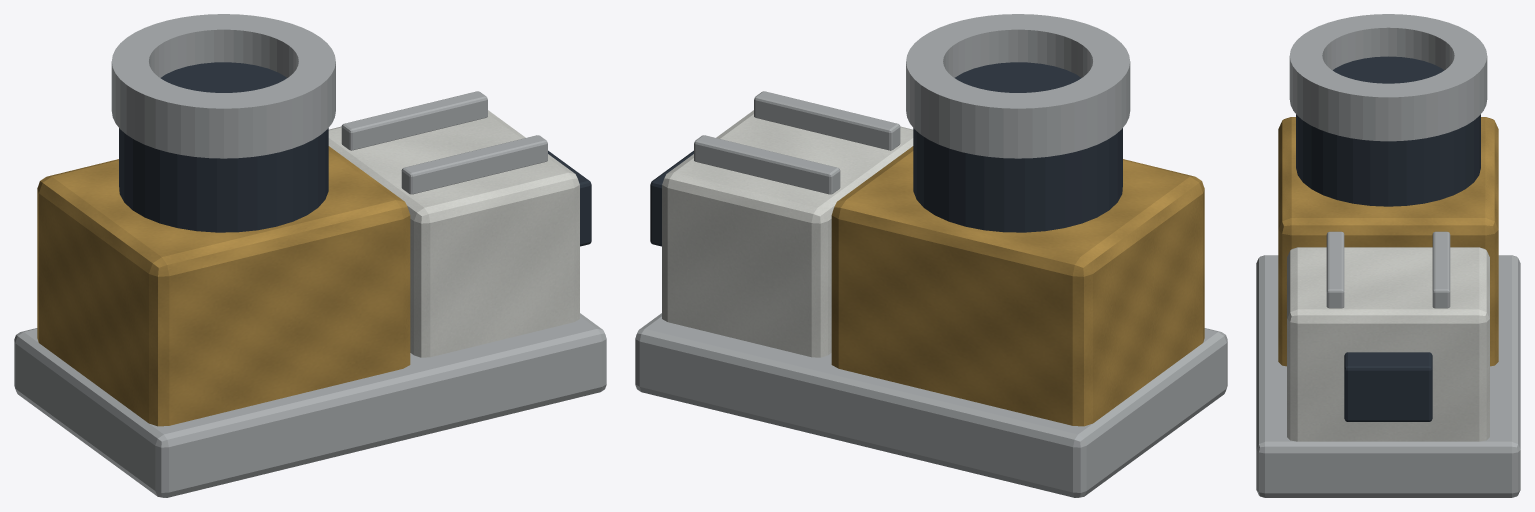
The model's file is probe_spectrometer.glb.
The picture shows the model from 3 angles, left to right: view 1: azimuth 30°, elevation 25°; view 2: azimuth 150°, elevation 25°; view 3: azimuth 270°, elevation 25°; orthographic projection. The views are drawn at different scales.
Visible parts, largest first — view 1: Spectrometer_OpticsCase, Spectrometer_Mount, Spectrometer_Electronics, Optical_FrontRim, Optical_Barrel, Electronics_Radiator, Electronics_Radiator.001, Optical_Window, Cable_Connector; view 2: Spectrometer_OpticsCase, Spectrometer_Mount, Spectrometer_Electronics, Optical_FrontRim, Optical_Barrel, Electronics_Radiator.001, Electronics_Radiator, Optical_Window, Cable_Connector; view 3: Spectrometer_Electronics, Spectrometer_Mount, Optical_FrontRim, Spectrometer_OpticsCase, Optical_Barrel, Cable_Connector, Optical_Window, Electronics_Radiator, Electronics_Radiator.001.
Boxes of the visible parts, left/top/right/bottom form: Spectrometer_OpticsCase: left=37, top=146, right=410, bottom=426; Spectrometer_Mount: left=14, top=313, right=606, bottom=497; Spectrometer_Electronics: left=328, top=110, right=579, bottom=357; Optical_FrontRim: left=111, top=14, right=335, bottom=158; Optical_Barrel: left=119, top=128, right=328, bottom=232; Electronics_Radiator: left=401, top=135, right=547, bottom=194; Electronics_Radiator.001: left=341, top=91, right=487, bottom=150; Optical_Window: left=160, top=62, right=286, bottom=92; Cable_Connector: left=548, top=150, right=591, bottom=246; Spectrometer_OpticsCase: left=831, top=146, right=1204, bottom=426; Spectrometer_Mount: left=635, top=313, right=1227, bottom=497; Spectrometer_Electronics: left=662, top=110, right=913, bottom=357; Optical_FrontRim: left=906, top=14, right=1130, bottom=158; Optical_Barrel: left=913, top=128, right=1122, bottom=232; Electronics_Radiator.001: left=694, top=135, right=840, bottom=194; Electronics_Radiator: left=754, top=91, right=900, bottom=150; Optical_Window: left=955, top=62, right=1081, bottom=92; Cable_Connector: left=650, top=150, right=693, bottom=246; Spectrometer_Electronics: left=1287, top=247, right=1489, bottom=441; Spectrometer_Mount: left=1256, top=255, right=1520, bottom=497; Optical_FrontRim: left=1289, top=14, right=1487, bottom=141; Spectrometer_OpticsCase: left=1278, top=117, right=1498, bottom=366; Optical_Barrel: left=1296, top=114, right=1480, bottom=206; Cable_Connector: left=1344, top=352, right=1432, bottom=421; Optical_Window: left=1333, top=56, right=1443, bottom=83; Electronics_Radiator: left=1326, top=231, right=1344, bottom=308; Electronics_Radiator.001: left=1432, top=231, right=1450, bottom=308.
Bounding box in the file's own units: 0.5575 × 0.39 × 0.3.
Materials: 4 (2 with a texture image).
